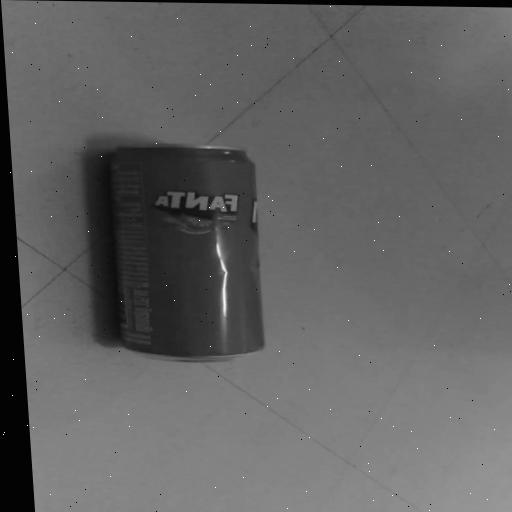canned: (83, 127, 295, 377)
